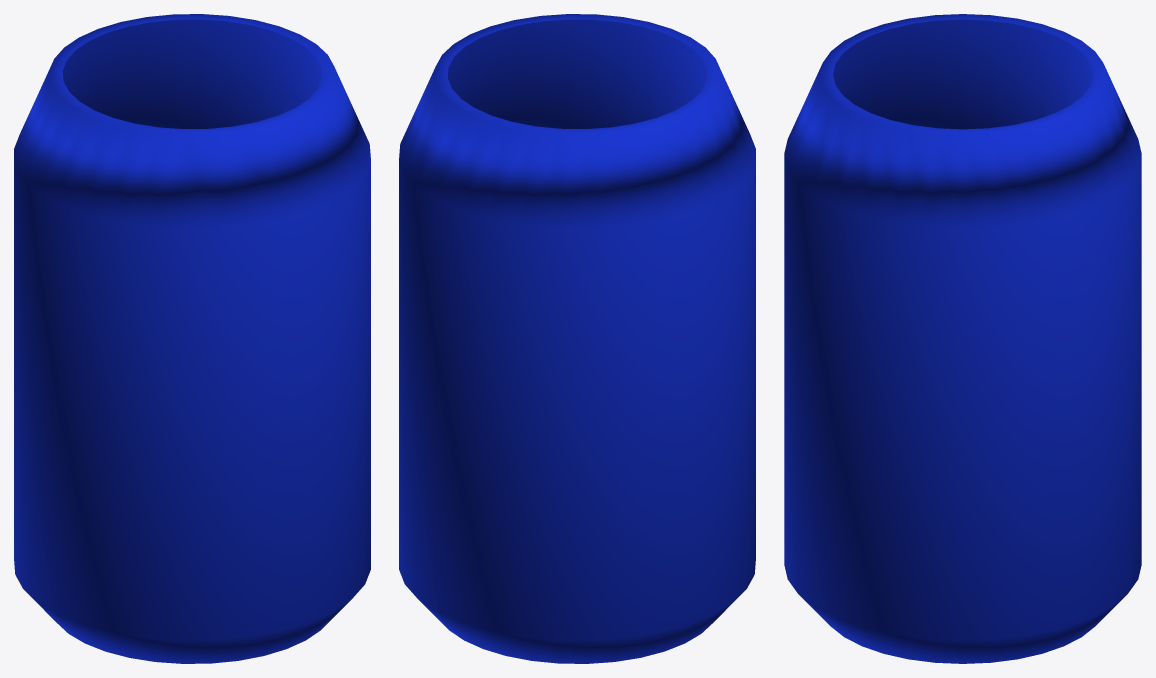
The model's file is barrel.dae.
3 views of the same model, side by side, from view 1: azimuth 30°, elevation 25°; view 2: azimuth 150°, elevation 25°; view 3: azimuth 270°, elevation 25° (orthographic).
Visible parts, largest first — view 1: barrell; view 2: barrell; view 3: barrell.
Part boxes in pixels (x1=…): barrell: x1=14, y1=14, x2=370, y2=663; barrell: x1=399, y1=14, x2=755, y2=663; barrell: x1=784, y1=14, x2=1141, y2=663.
Size of the model in its own units: 0.6 by 0.6 by 0.98.
